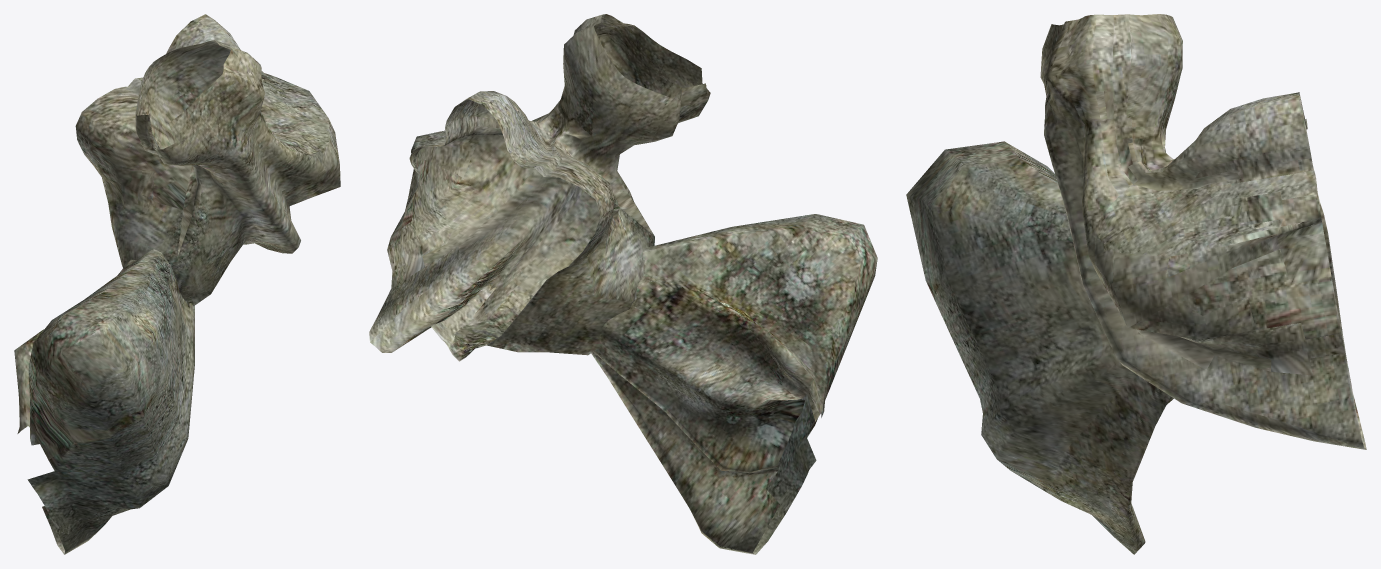
File: waterfall_rock_arch_2.obj
The picture shows the model from 3 angles, left to right: view 1: azimuth 30°, elevation 25°; view 2: azimuth 150°, elevation 25°; view 3: azimuth 270°, elevation 25°; orthographic projection. The views are drawn at different scales.
Visible parts, largest first — view 1: rock1_obj.002; view 2: rock1_obj.002; view 3: rock1_obj.002.
Boxes of the visible parts, left/top/right/bottom form: rock1_obj.002: left=14, top=14, right=340, bottom=554; rock1_obj.002: left=369, top=14, right=877, bottom=554; rock1_obj.002: left=906, top=14, right=1366, bottom=554.
Size of the model in its own units: 0.5753 by 0.7445 by 0.4966.
